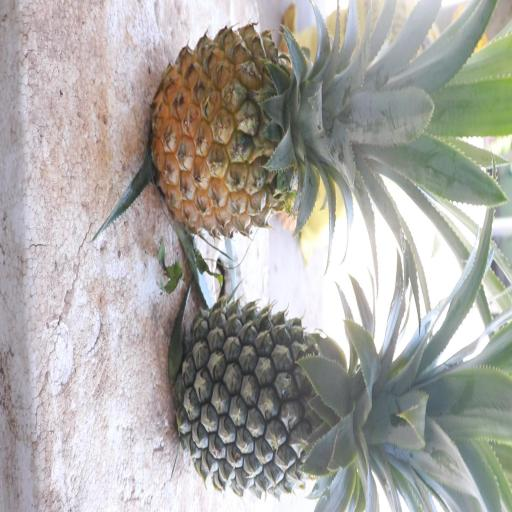Pineapple - v8 v1: (146, 4, 431, 237)
